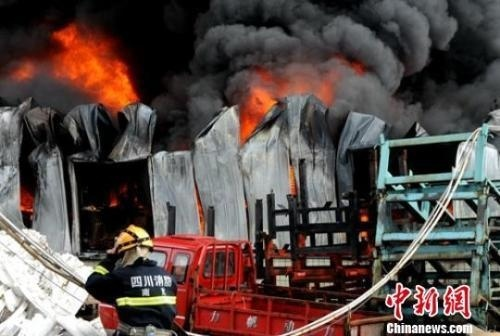fire: (38, 26, 140, 109), (239, 79, 278, 139)
